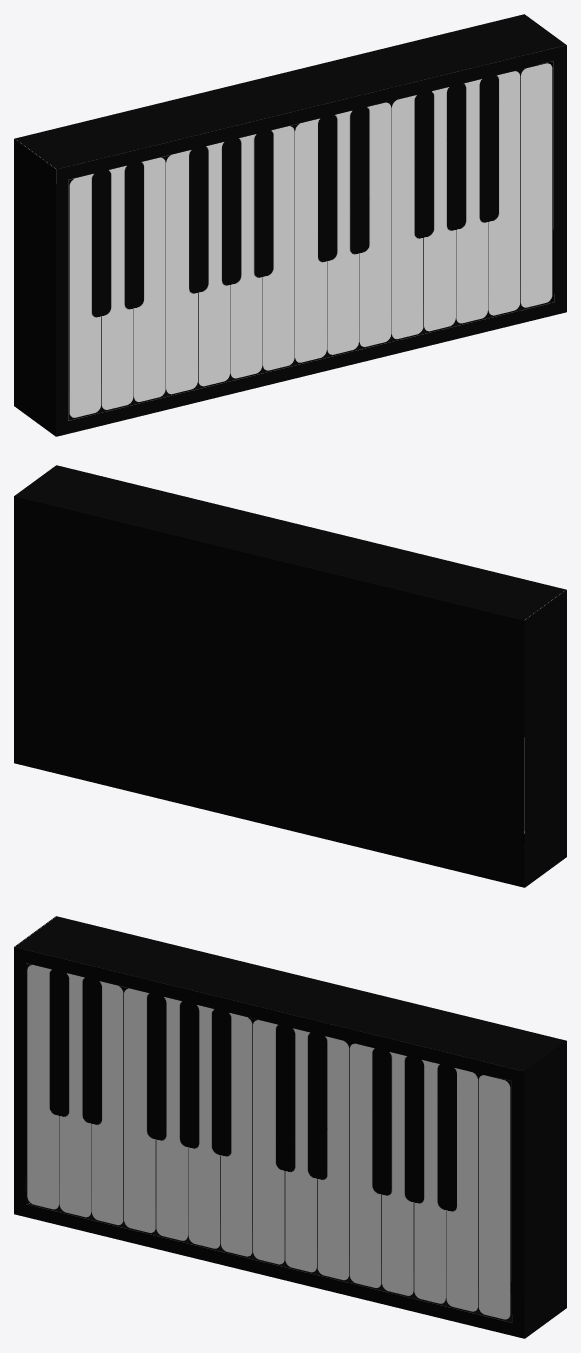
The model's file is A_Keyboard_LowPoly.FBX.
The picture shows the model from 3 angles, top to bottom: view 1: azimuth 30°, elevation 25°; view 2: azimuth 150°, elevation 25°; view 3: azimuth 330°, elevation 25°; orthographic projection.
Parts seen in each view (by area): view 1: A_Keyboard; view 2: A_Keyboard; view 3: A_Keyboard.
Boxes of the visible parts, left/top/right/bottom form: A_Keyboard: left=14, top=14, right=566, bottom=436; A_Keyboard: left=14, top=465, right=566, bottom=887; A_Keyboard: left=14, top=916, right=566, bottom=1338.
Size of the model in its own units: 140 by 70 by 20.
Materials: 1 (1 with a texture image).
